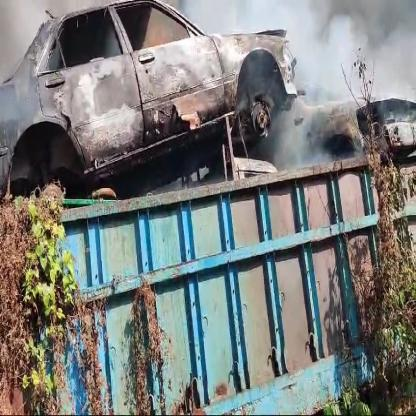Smoke: (0, 0, 415, 193)
